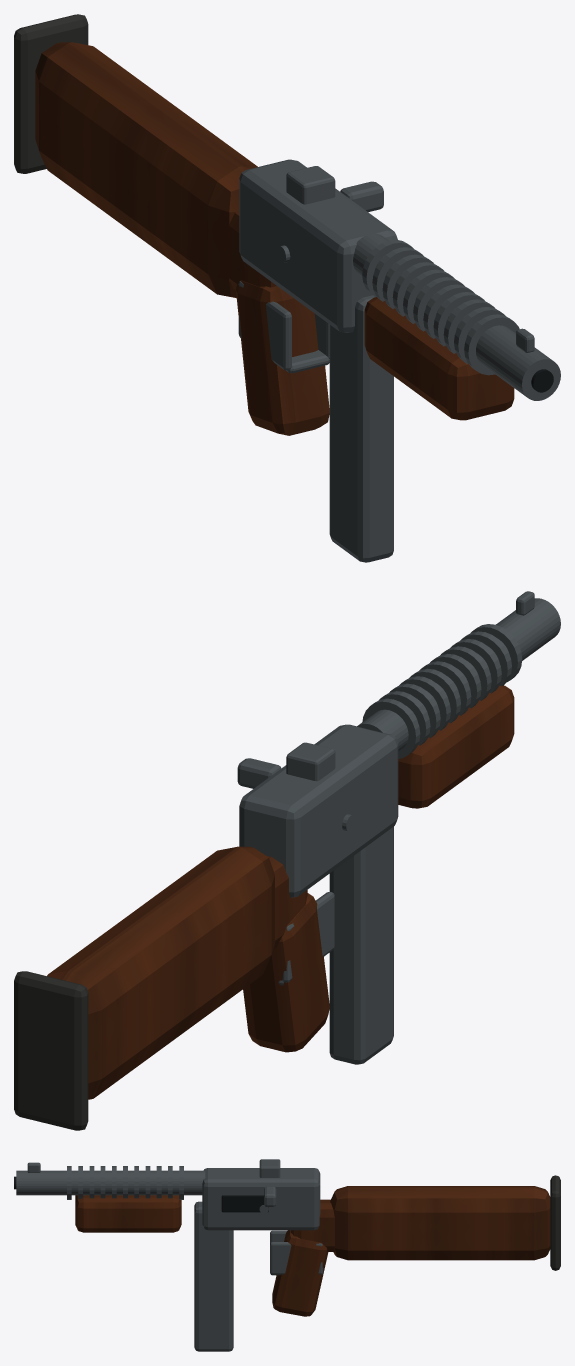
Rendered from thompson.glb.
3 views of the same model, one above another, from view 1: azimuth 30°, elevation 25°; view 2: azimuth 150°, elevation 25°; view 3: azimuth 270°, elevation 25° (orthographic). The views are drawn at different scales.
Visible parts, largest first — view 1: walnut shoulder stock, receiver, ribbed butt plate; view 2: walnut shoulder stock, receiver, ribbed butt plate; view 3: walnut shoulder stock, receiver, ribbed butt plate, ejection port.
Part boxes in pixels (box(x1,y1,x2,y2)): walnut shoulder stock: box(35, 42, 514, 435); receiver: box(238, 159, 560, 562); ribbed butt plate: box(14, 14, 88, 173); walnut shoulder stock: box(47, 685, 514, 1099); receiver: box(237, 591, 560, 1064); ribbed butt plate: box(14, 971, 88, 1130); walnut shoulder stock: box(75, 1186, 550, 1316); receiver: box(16, 1159, 323, 1351); ribbed butt plate: box(550, 1175, 560, 1270); ejection port: box(14, 1176, 268, 1212).
Bounding box in the file's own units: 0.114 × 0.3475 × 0.927.
Materials: 4 (1 with a texture image).
